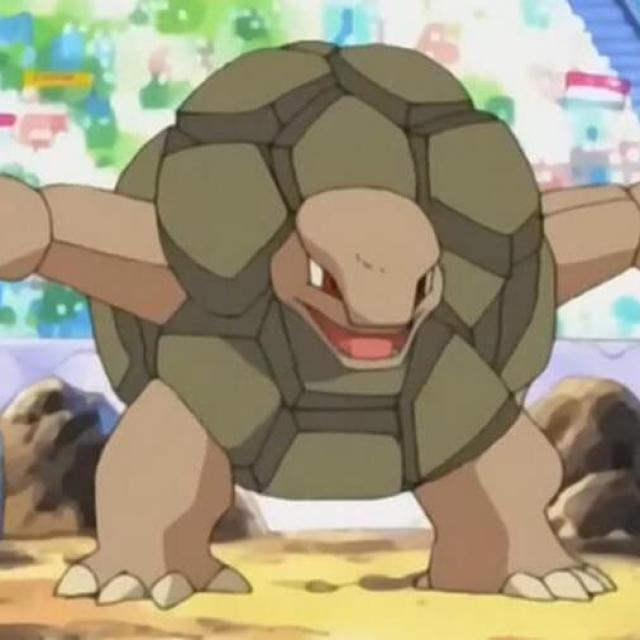Golem: (79, 37, 621, 607)
